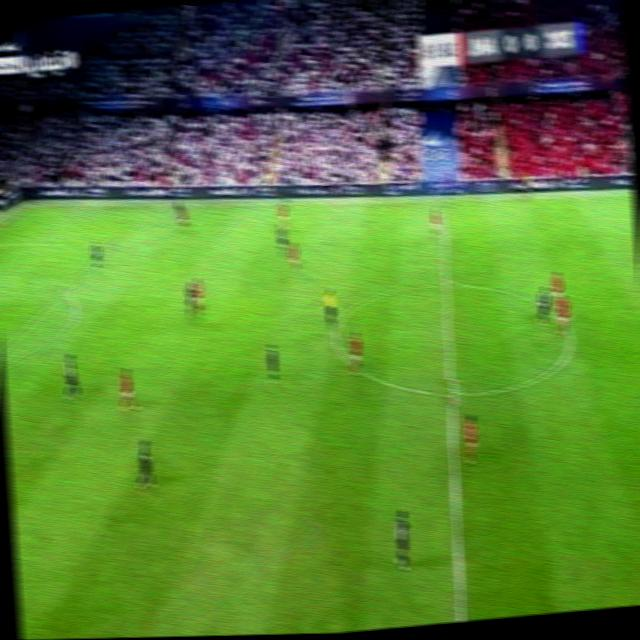bigarea_top_inner: (104, 236, 120, 253)
corner: (23, 201, 40, 210)
halfcircle_bottom: (440, 377, 464, 405)
halfcircle_top: (434, 270, 460, 295)
midline_top_intersection: (434, 192, 452, 209)
top_arc_area_intersection: (56, 283, 72, 299)
